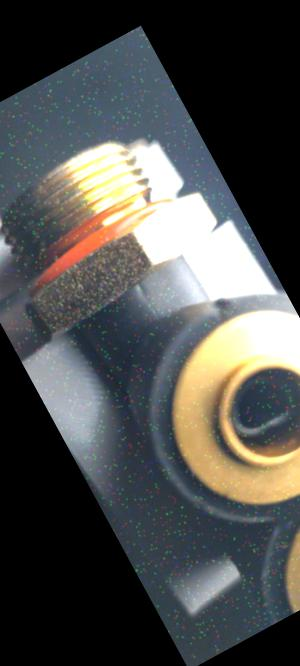bump: (205, 290, 239, 322)
joint line: (142, 292, 164, 323)
off-centered: (216, 358, 300, 463)
white mark: (130, 281, 144, 297)
